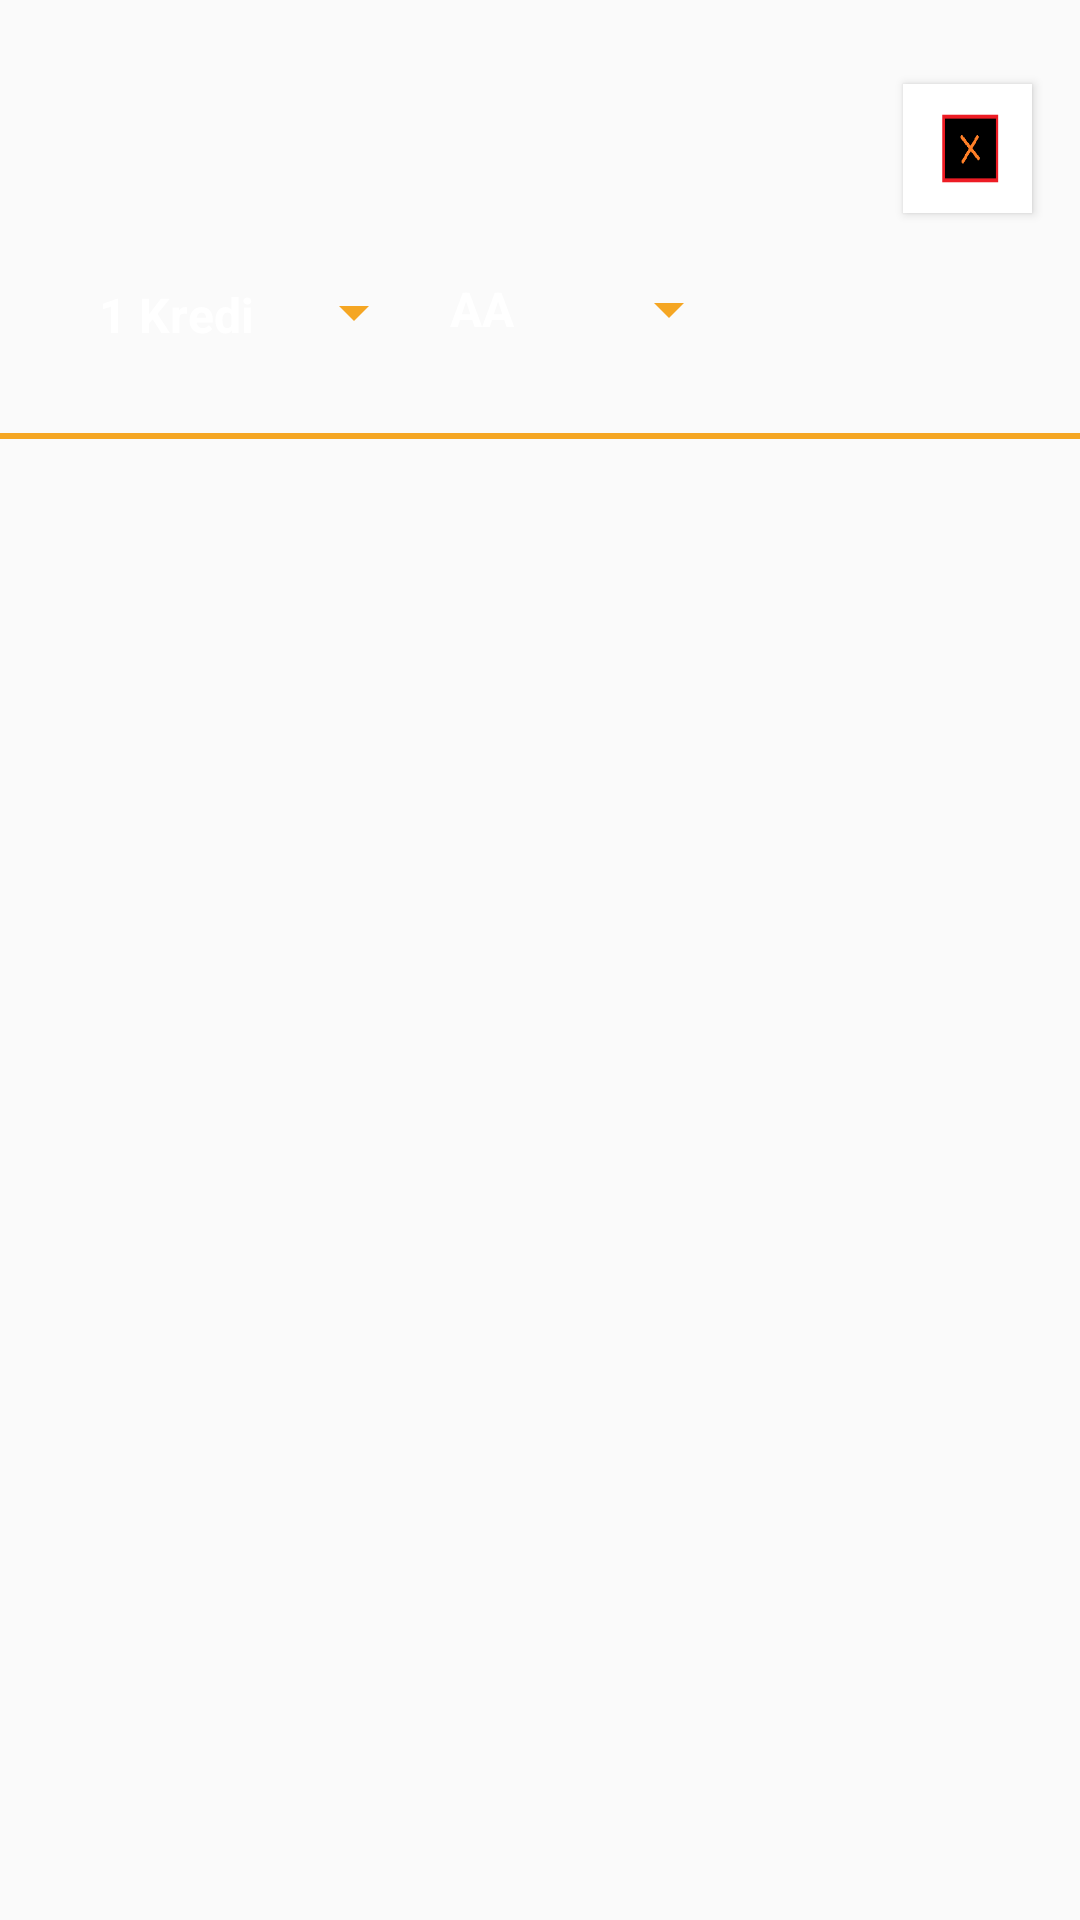

Named icons in this screenshot (1080 x 1920) and their centers, [x,y]:
sil: [970,148]
